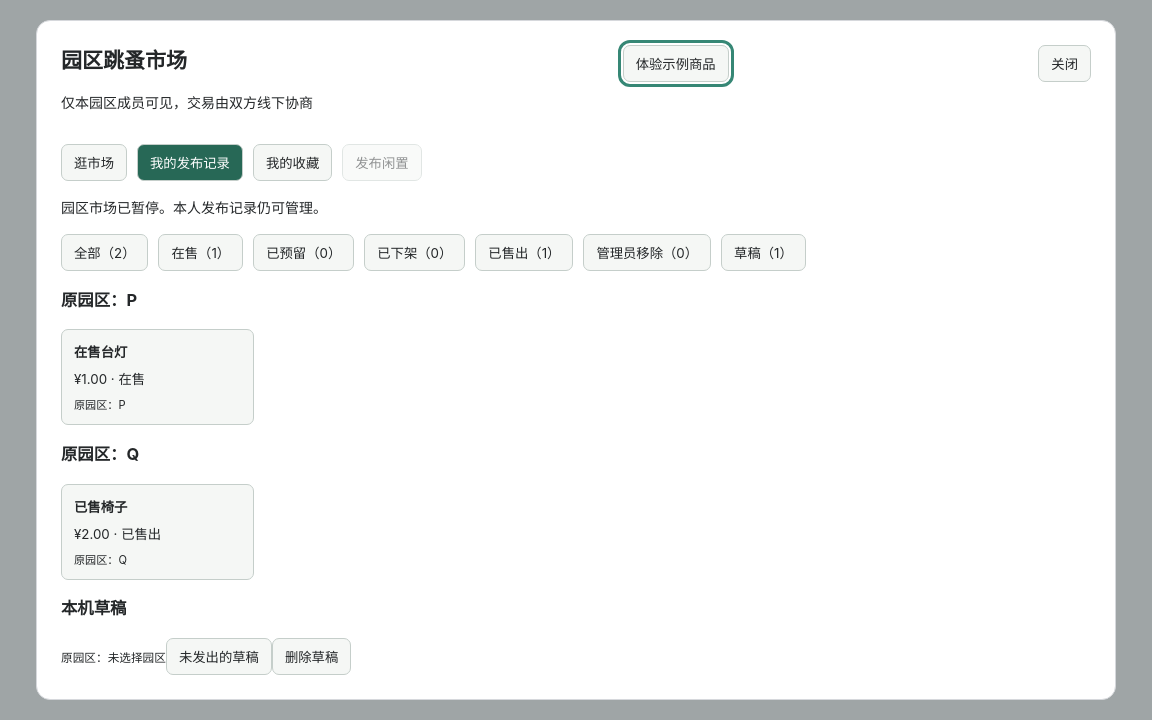
filters own records by state with counts while keeping drafts reachable
Click the button "已售出（1）": click(524, 253) [475, 234, 573, 271]
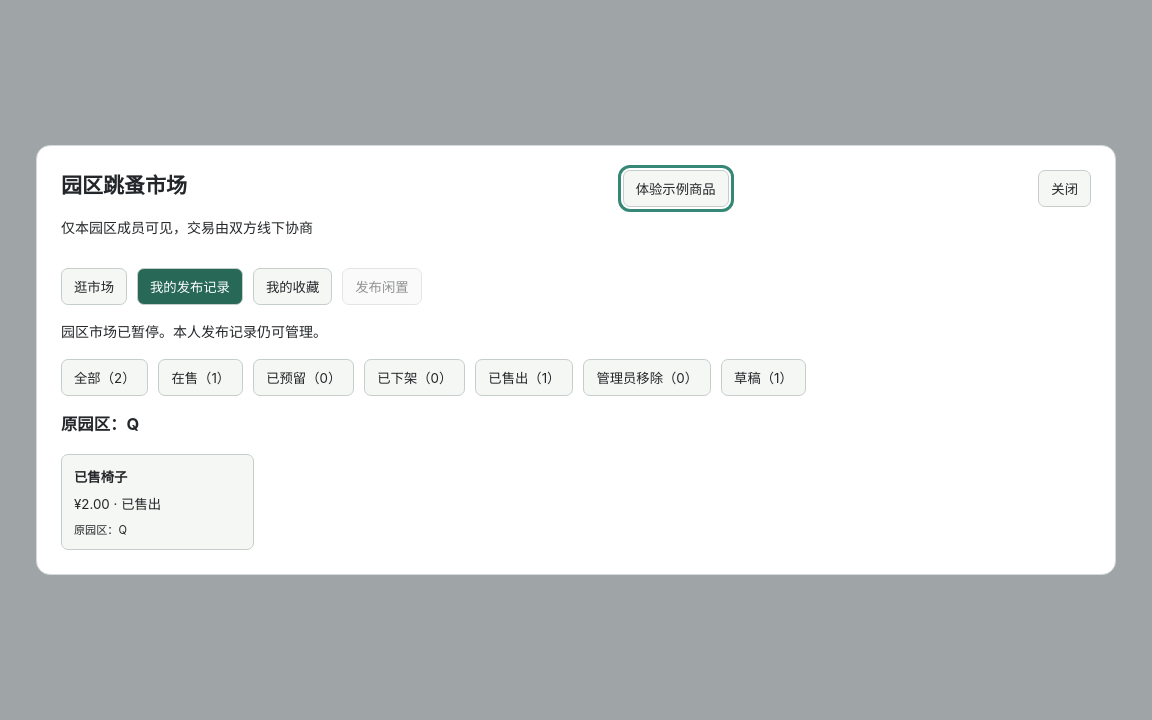
Expected: the text "已售椅子" is shown, [74, 467, 127, 486]
Now the button "在售台灯" is gone
Click the button "草稿（1）": click(763, 377) [721, 359, 806, 396]
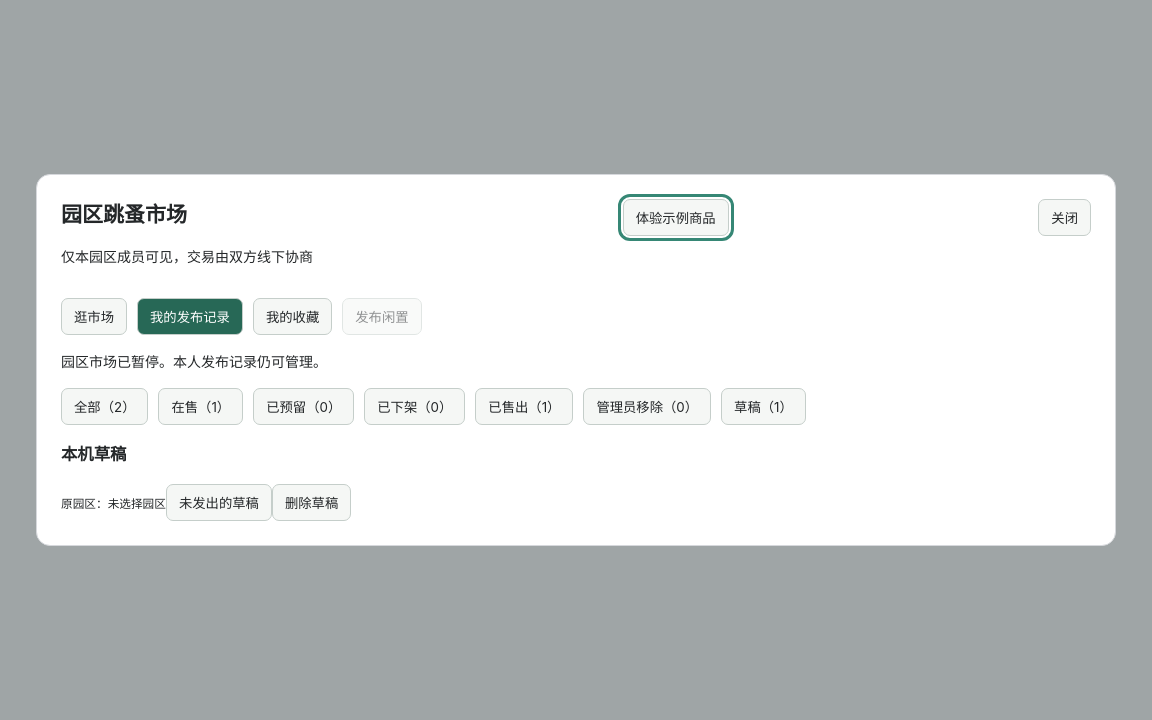
Now the button "未发出的草稿" is shown, box [166, 484, 272, 520]
Now the button "已售椅子" is gone
